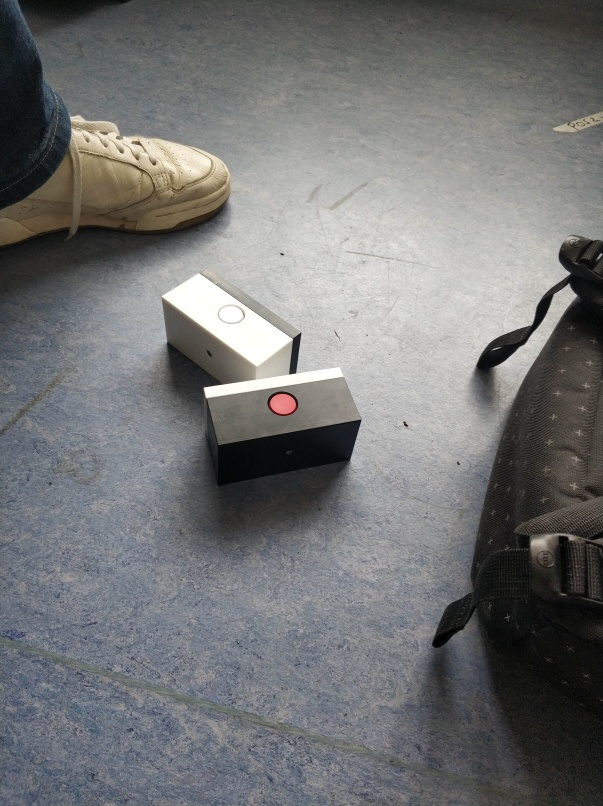black+white+silver: (161, 262, 302, 378)
white+black+red: (197, 366, 363, 480)
